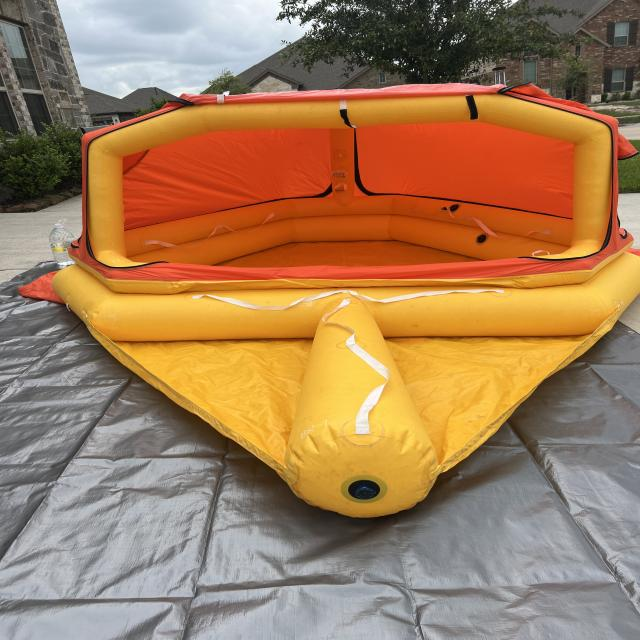Multi-person_life_raft: (17, 80, 640, 520)
